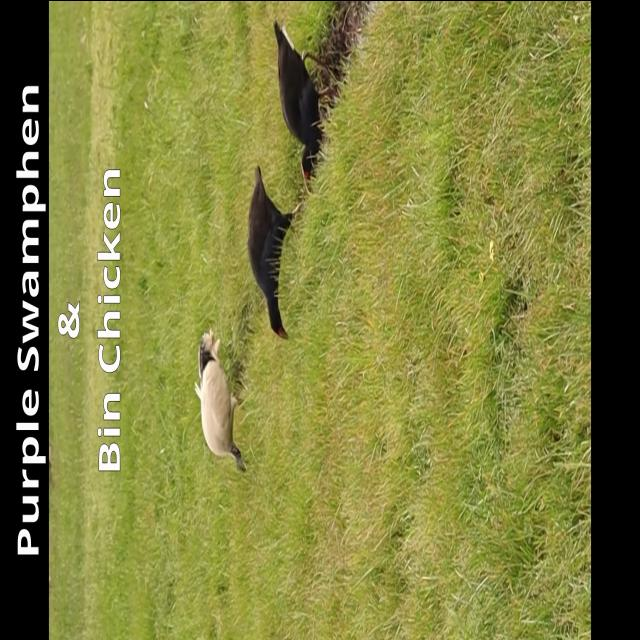Birds-Ibis: (192, 324, 250, 478)
Birds-Other: (270, 14, 338, 192), (245, 160, 303, 342)
